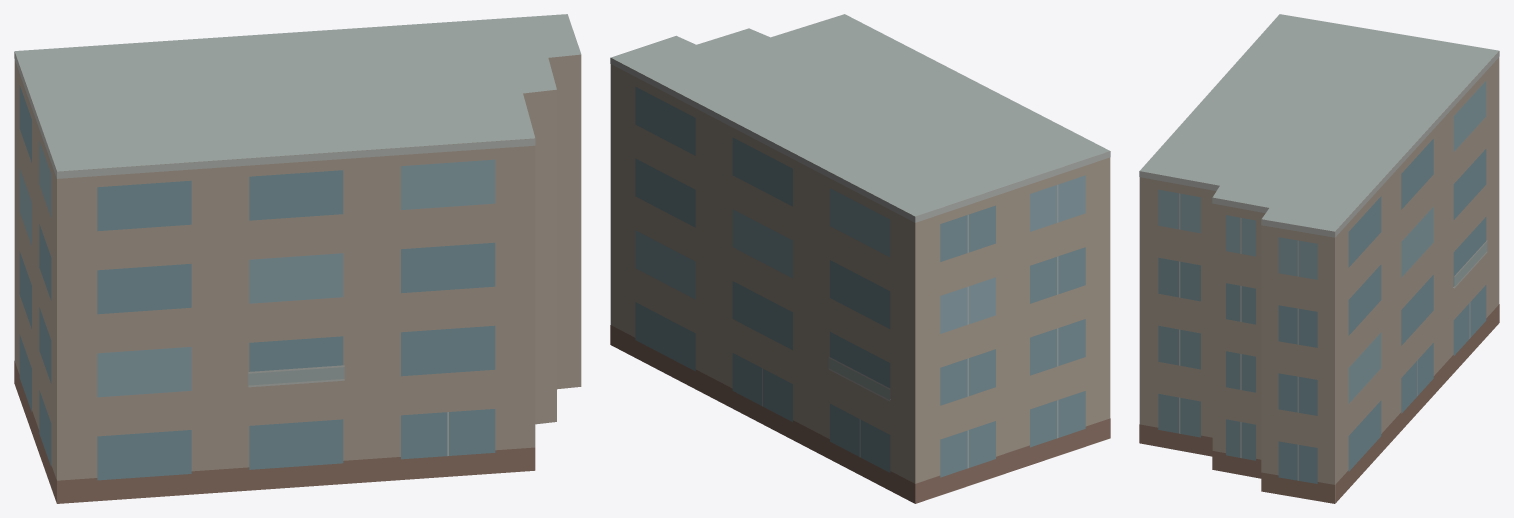
The model's file is survey-upis-32944852.glb.
The picture shows the model from 3 angles, left to right: view 1: azimuth 30°, elevation 25°; view 2: azimuth 150°, elevation 25°; view 3: azimuth 270°, elevation 25°; orthographic projection. The views are drawn at different scales.
Visible parts, largest first — view 1: survey-upis-32944852.tmp; view 2: survey-upis-32944852.tmp; view 3: survey-upis-32944852.tmp.
Boxes of the visible parts, x1,y1,x2,y2 form: survey-upis-32944852.tmp: (14,14,581,503); survey-upis-32944852.tmp: (610,14,1110,503); survey-upis-32944852.tmp: (1139,14,1499,503).
Bounding box in the file's own units: 19.04 × 11.1 × 13.31.
